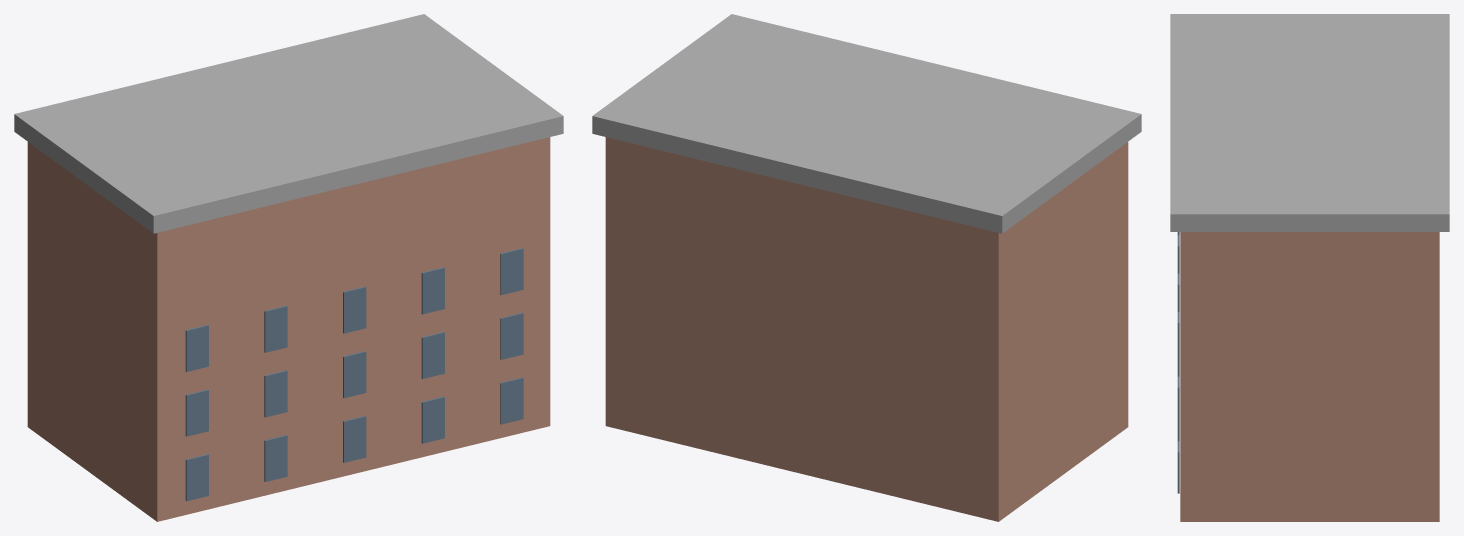
File: double_bank.glb
3 renders of one model, left to right at view 1: azimuth 30°, elevation 25°; view 2: azimuth 150°, elevation 25°; view 3: azimuth 270°, elevation 25°, orthographic.
Visible parts, largest first — view 1: body, roof, win0_4, win0_2, win1_0, win1_1, win2_1, win2_2, win2_3, win0_0, win0_3, win1_4 (+5 smaller); view 2: body, roof; view 3: body, roof.
Part boxes in pixels (box(x1,y1,x2,y2)): body: box(27, 137, 550, 521); roof: box(14, 14, 563, 233); win0_4: box(500, 377, 523, 424); win0_2: box(343, 415, 366, 462); win1_0: box(185, 389, 208, 436); win1_1: box(264, 370, 287, 417); win2_1: box(264, 305, 287, 352); win2_2: box(343, 286, 366, 333); win2_3: box(421, 267, 444, 314); win0_0: box(185, 454, 208, 501); win0_3: box(421, 396, 444, 443); win1_4: box(500, 312, 523, 359); body: box(605, 137, 1128, 521); roof: box(592, 14, 1141, 233); body: box(1180, 232, 1439, 521); roof: box(1170, 14, 1449, 231).
Size of the model in its own units: 14.6 by 10.6 by 8.6.
